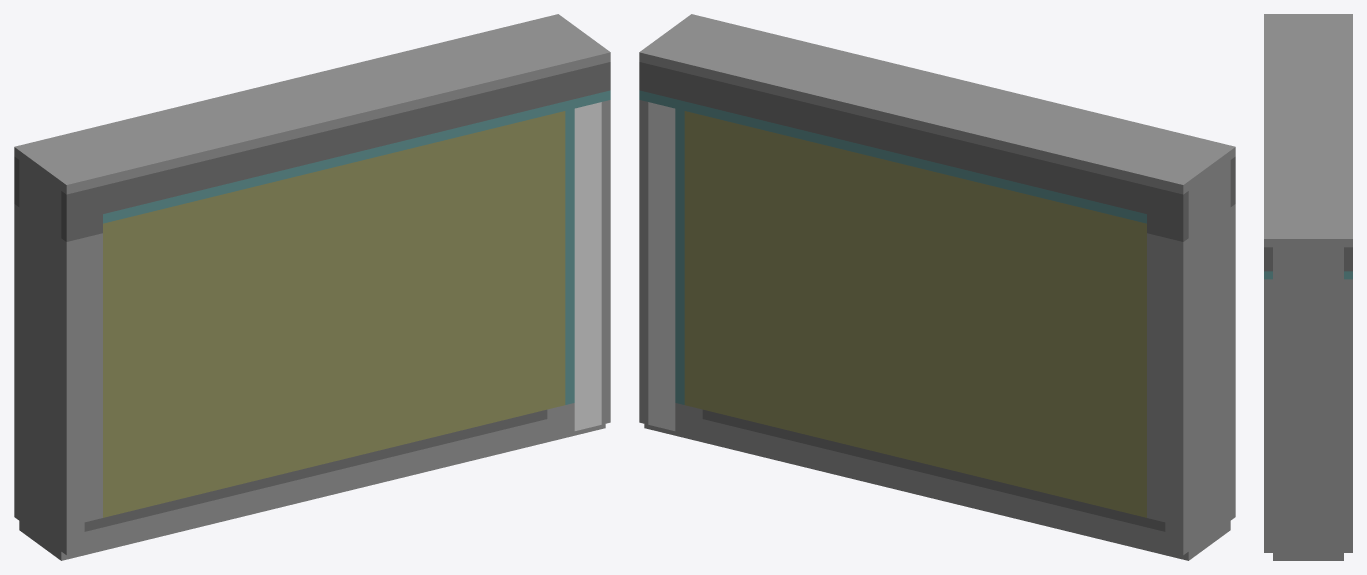
Rendered from Conference Room Wall 8.obj.
3 renders of one model, left to right at view 1: azimuth 30°, elevation 25°; view 2: azimuth 150°, elevation 25°; view 3: azimuth 270°, elevation 25°, orthographic. The views are drawn at different scales.
Bounding box in the file's own units: 60 × 40 × 10.
Materials: 1 (1 with a texture image).
